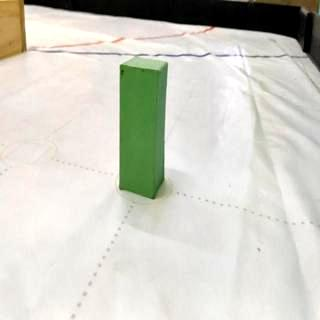greenbox: (116, 52, 170, 200)
